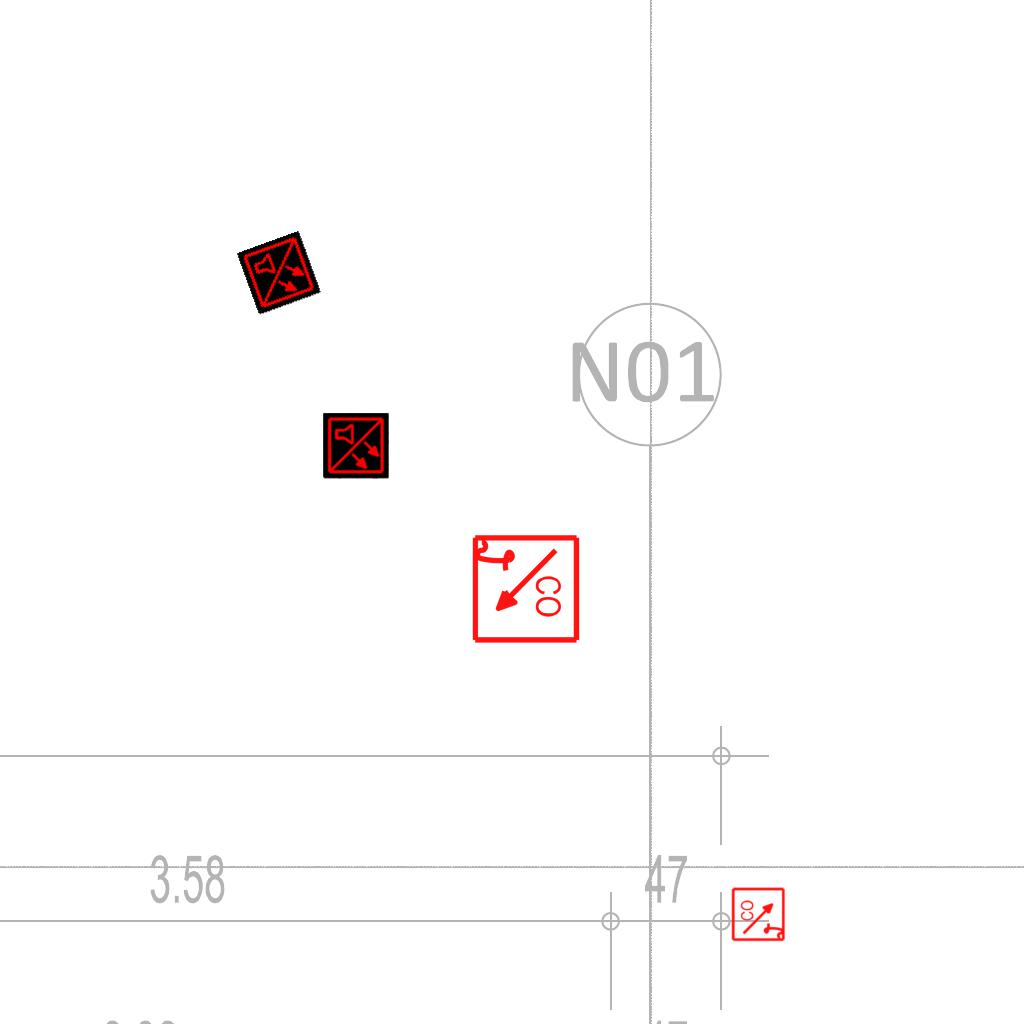OKW_Multisensormelder_(Kombination_optischer_Rauch-Kahlenmonoxid_Waerme-Melder): (236, 230, 322, 316), (323, 413, 389, 479)
ROA_Rauchmelder_optisch_mit_Signalgeber_(Sockelsirene): (468, 533, 581, 646), (731, 886, 787, 942)
